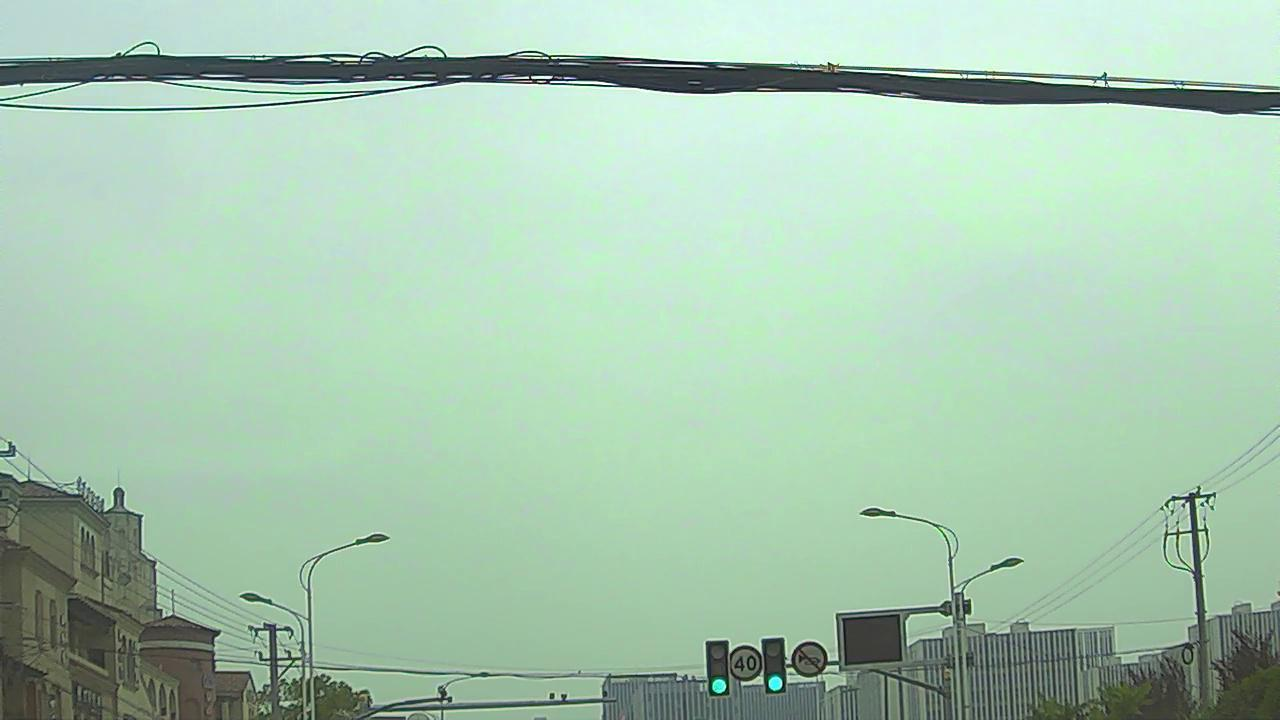traffic_light: (761, 639, 787, 695), (708, 640, 730, 696)
